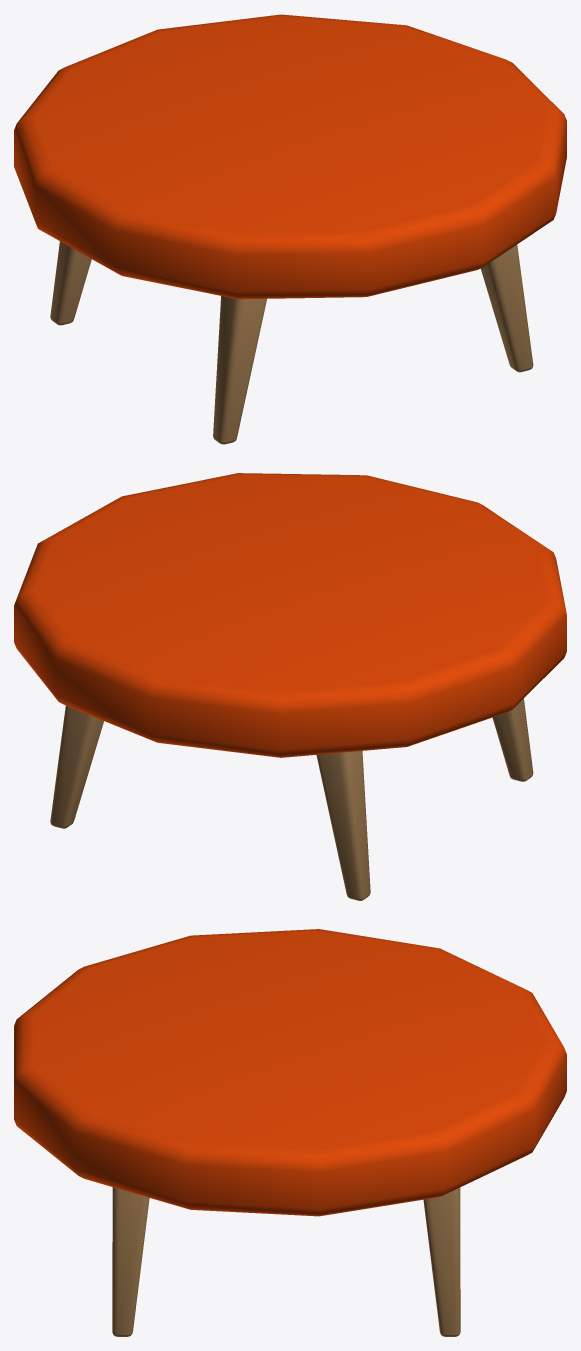
Rendered from Table_3V.fbx.
3 renders of one model, top to bottom at view 1: azimuth 30°, elevation 25°; view 2: azimuth 150°, elevation 25°; view 3: azimuth 270°, elevation 25°, orthographic.
Visible parts, largest first — view 1: Table_3V; view 2: Table_3V; view 3: Table_3V.
Part boxes in pixels (bbox=[...]): Table_3V: bbox=[14, 14, 566, 444]; Table_3V: bbox=[14, 473, 566, 900]; Table_3V: bbox=[14, 929, 566, 1336].
Bounding box in the file's own units: 0.4596 × 0.2012 × 0.4562.
